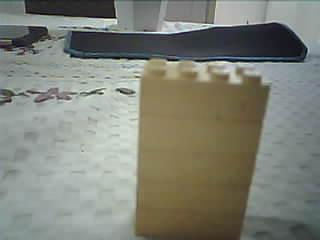lego: (129, 56, 272, 239)
